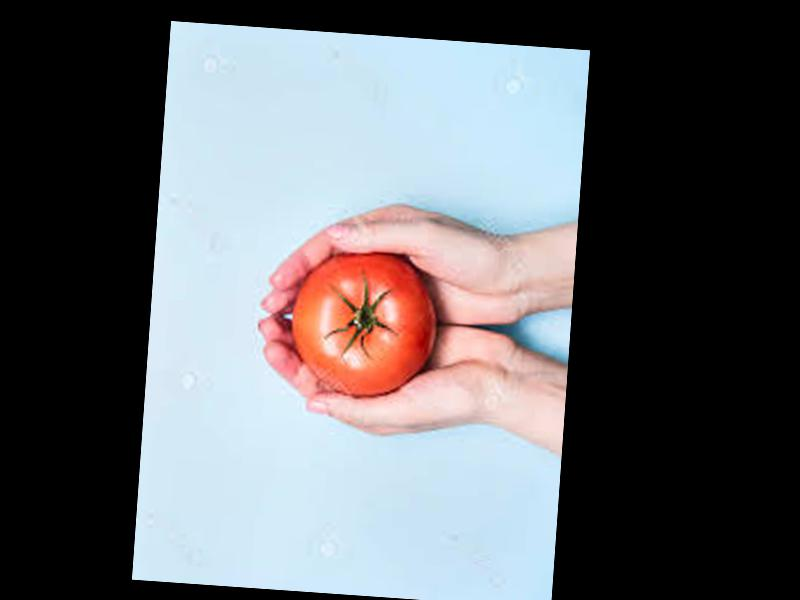Tomato: (287, 243, 440, 401)
